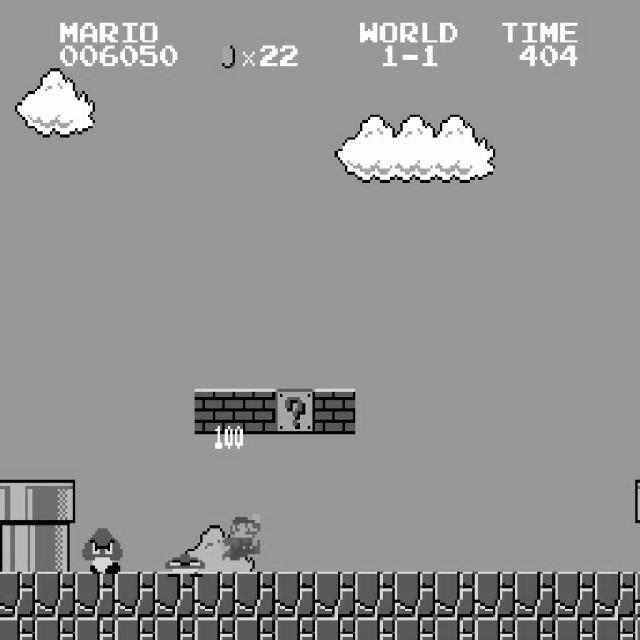1- brick_block: (194, 388, 236, 434), (234, 388, 276, 434), (314, 388, 356, 434)
11- little_mario: (218, 511, 260, 560)
13- mystery_block: (274, 388, 316, 434)
14- pipe: (34, 526, 76, 572), (0, 526, 35, 572), (635, 526, 640, 572)
15- pipe_head: (34, 480, 76, 526), (0, 480, 35, 526), (635, 480, 640, 526)
17- undestructible_block: (34, 572, 76, 618), (74, 572, 116, 618), (114, 572, 156, 618), (154, 572, 196, 618), (194, 572, 236, 618), (234, 572, 276, 618), (274, 572, 316, 618), (314, 572, 356, 618), (354, 572, 396, 618), (394, 572, 436, 618), (434, 572, 476, 618), (474, 572, 516, 618), (514, 572, 556, 618), (554, 572, 596, 618), (594, 572, 636, 618), (0, 572, 35, 618), (34, 617, 76, 640), (74, 617, 116, 640), (114, 617, 156, 640), (154, 617, 196, 640), (194, 617, 236, 640), (234, 617, 276, 640), (274, 617, 316, 640), (314, 617, 356, 640), (354, 617, 396, 640), (394, 617, 436, 640), (434, 617, 476, 640), (474, 617, 516, 640), (514, 617, 556, 640), (554, 617, 596, 640), (594, 617, 636, 640), (0, 617, 35, 640), (635, 572, 640, 618), (635, 617, 640, 640)
8- goomba: (80, 526, 123, 574)
